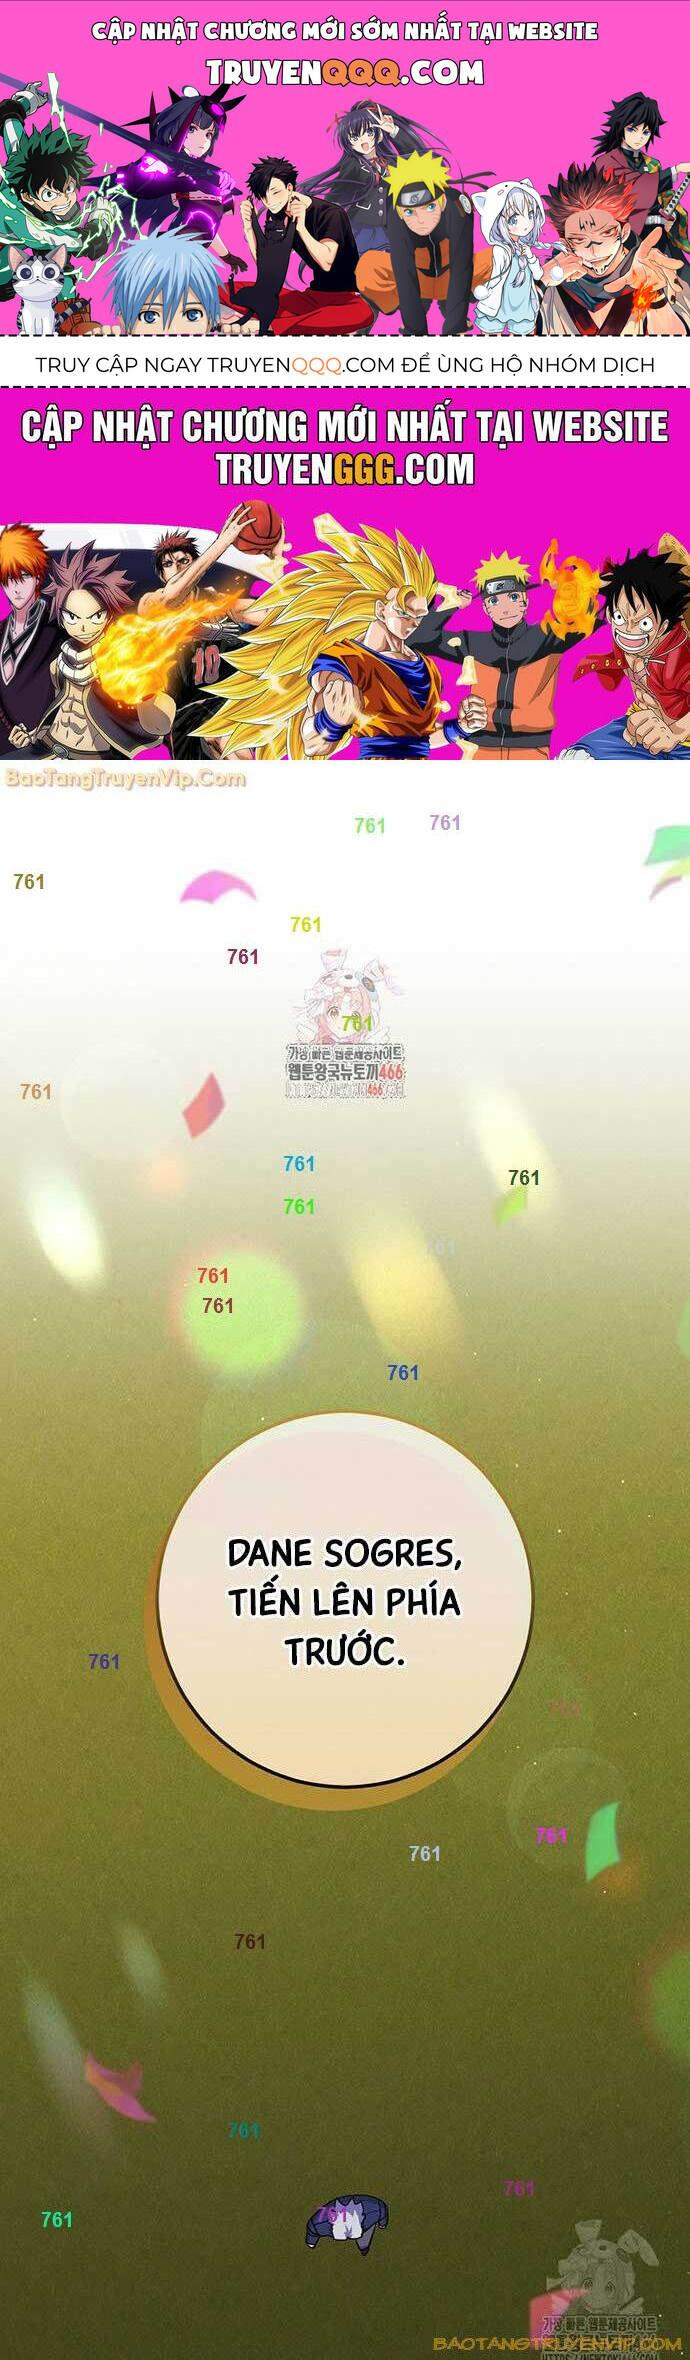quangcao: (0, 0, 690, 766)
